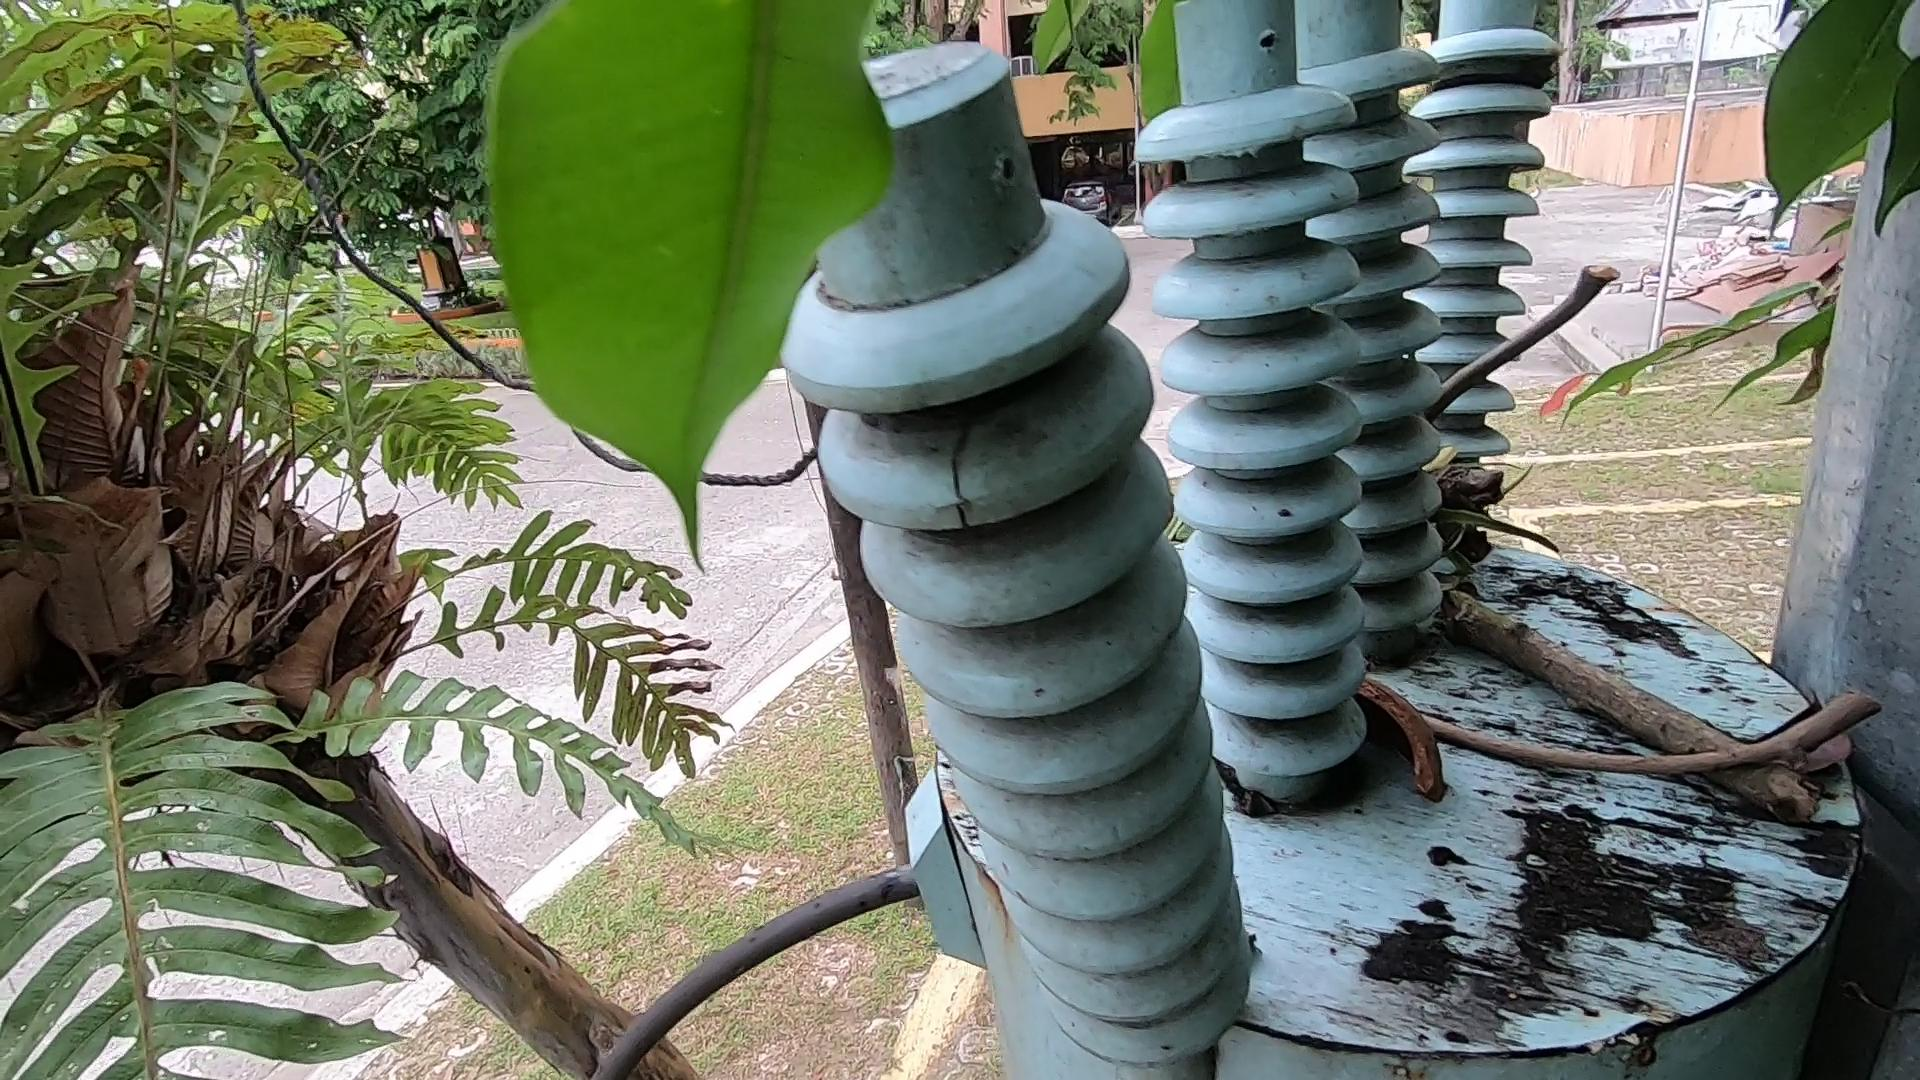branch with leaves: (1399, 380, 1844, 844)
leaf: (1778, 628, 1880, 840), (1245, 895, 1278, 969)
mahogany fruit: (1366, 682, 1466, 796)
tree branch: (1283, 663, 1883, 808), (1403, 196, 1654, 430)
